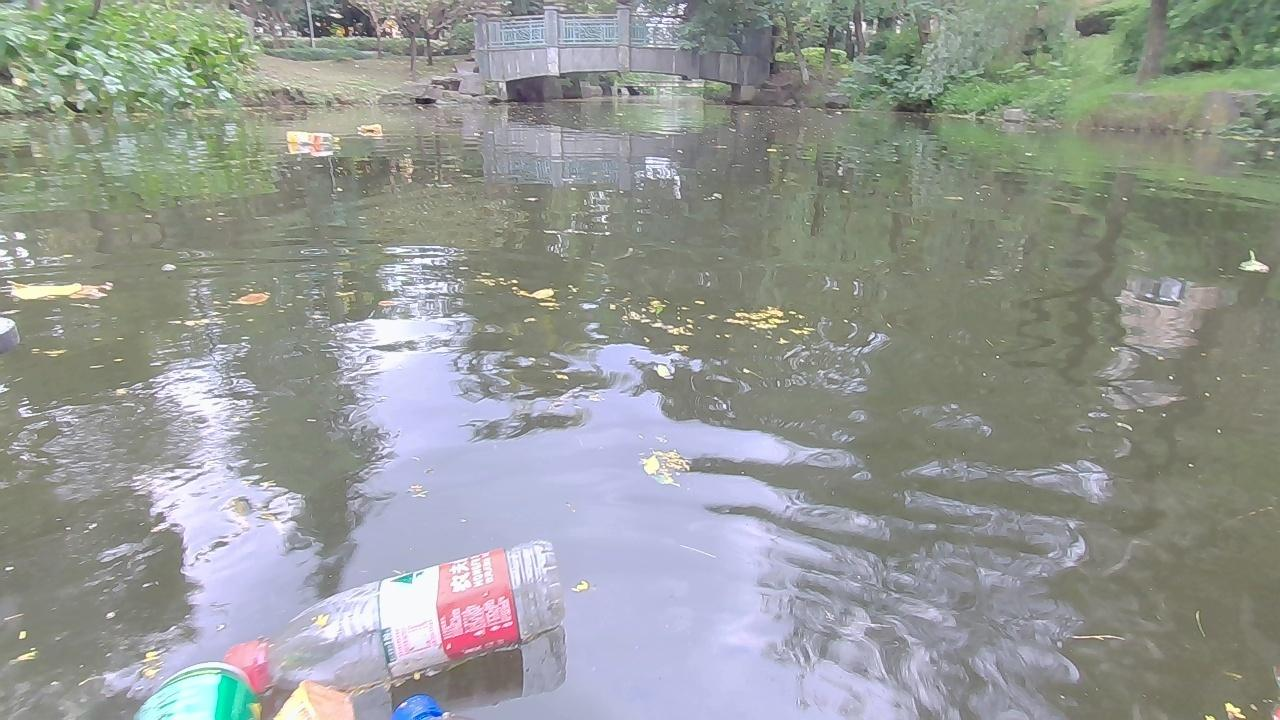bottle: (222, 540, 566, 689), (135, 668, 259, 719), (258, 675, 353, 719), (285, 130, 340, 144), (355, 122, 380, 131)
